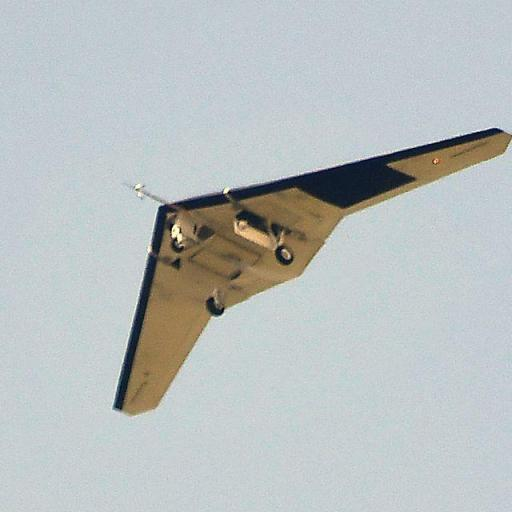uav: (111, 122, 512, 417)
